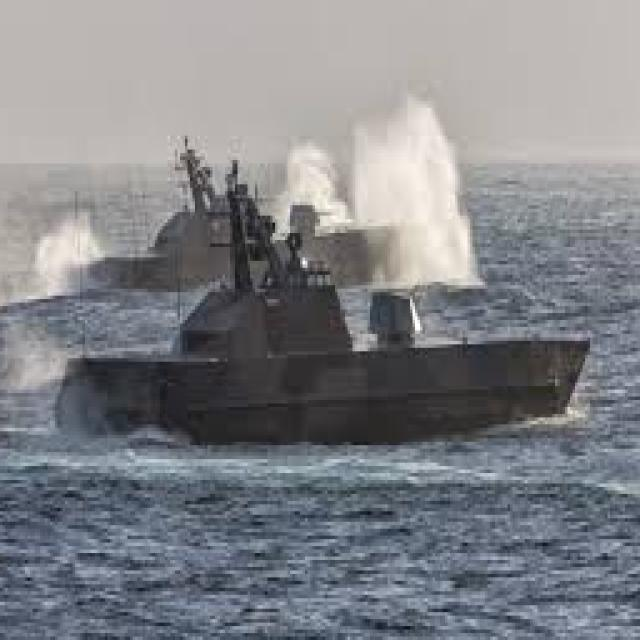navalvessels: (63, 248, 588, 476), (37, 156, 423, 305)
